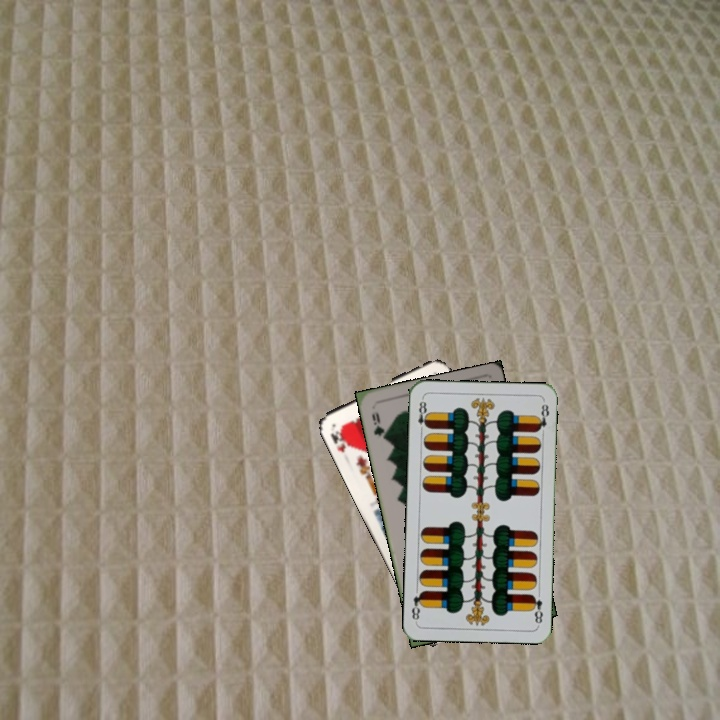E8: (414, 395, 431, 435), (527, 591, 546, 626)
G9: (368, 408, 389, 443)
HK: (326, 425, 352, 455)
